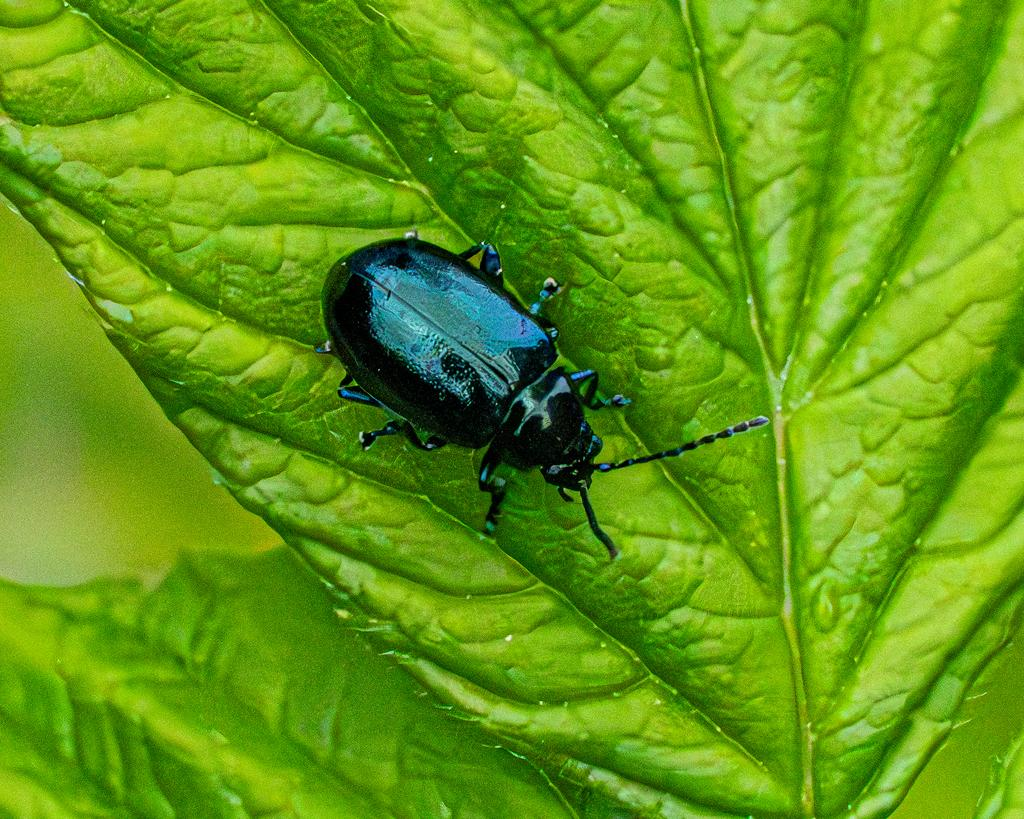flea_beetle: (247, 165, 795, 640)
